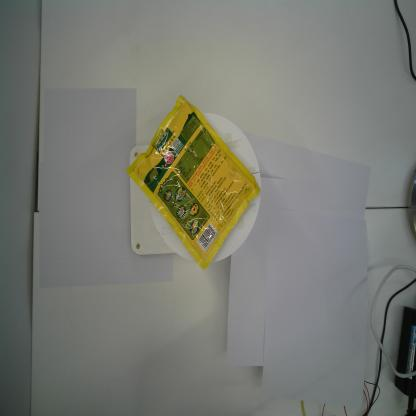Seasoner: (124, 93, 262, 273)
